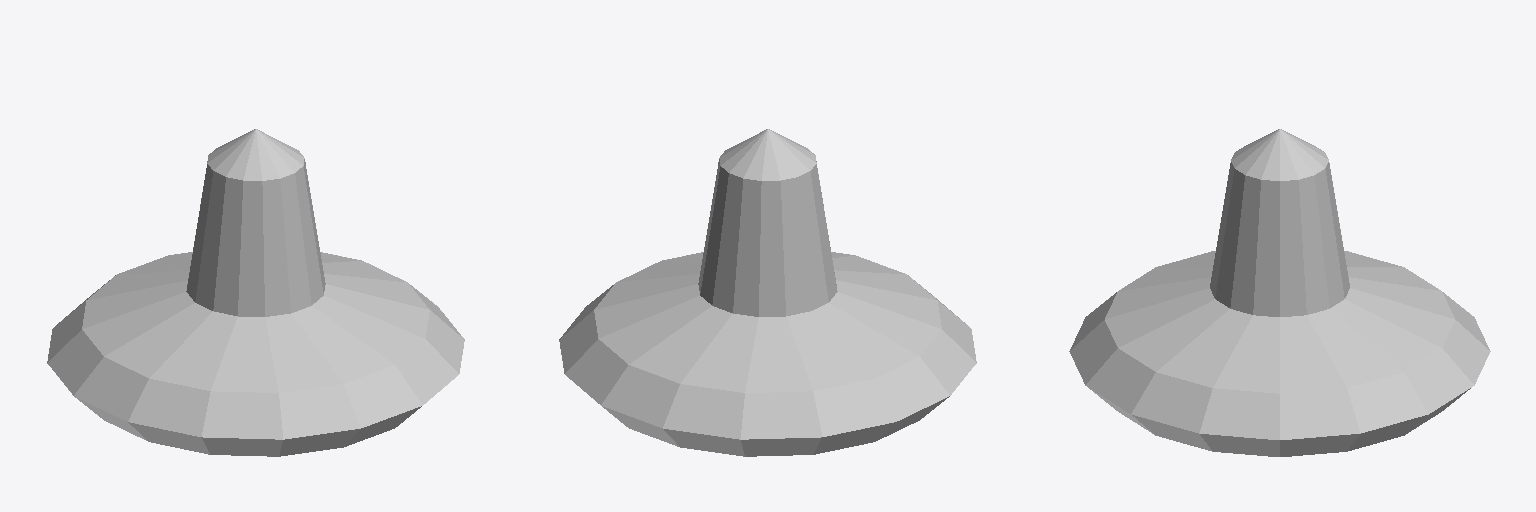
Rendered from bitok.obj.
3 views of the same model, side by side, from view 1: azimuth 30°, elevation 25°; view 2: azimuth 150°, elevation 25°; view 3: azimuth 270°, elevation 25° (orthographic).
Parts seen in each view (by area): view 1: Line01; view 2: Line01; view 3: Line01.
Part boxes in pixels (bbox=[...]): Line01: bbox=[47, 129, 464, 456]; Line01: bbox=[559, 129, 976, 456]; Line01: bbox=[1069, 129, 1490, 456].
Bounding box in the file's own units: 6 × 4 × 6.